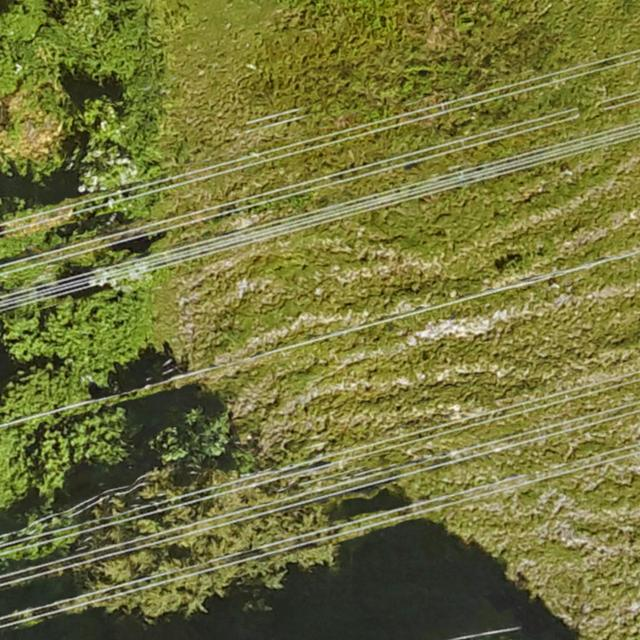tree: (91, 420, 320, 621), (1, 1, 181, 124), (0, 371, 122, 505), (1, 286, 158, 367)
